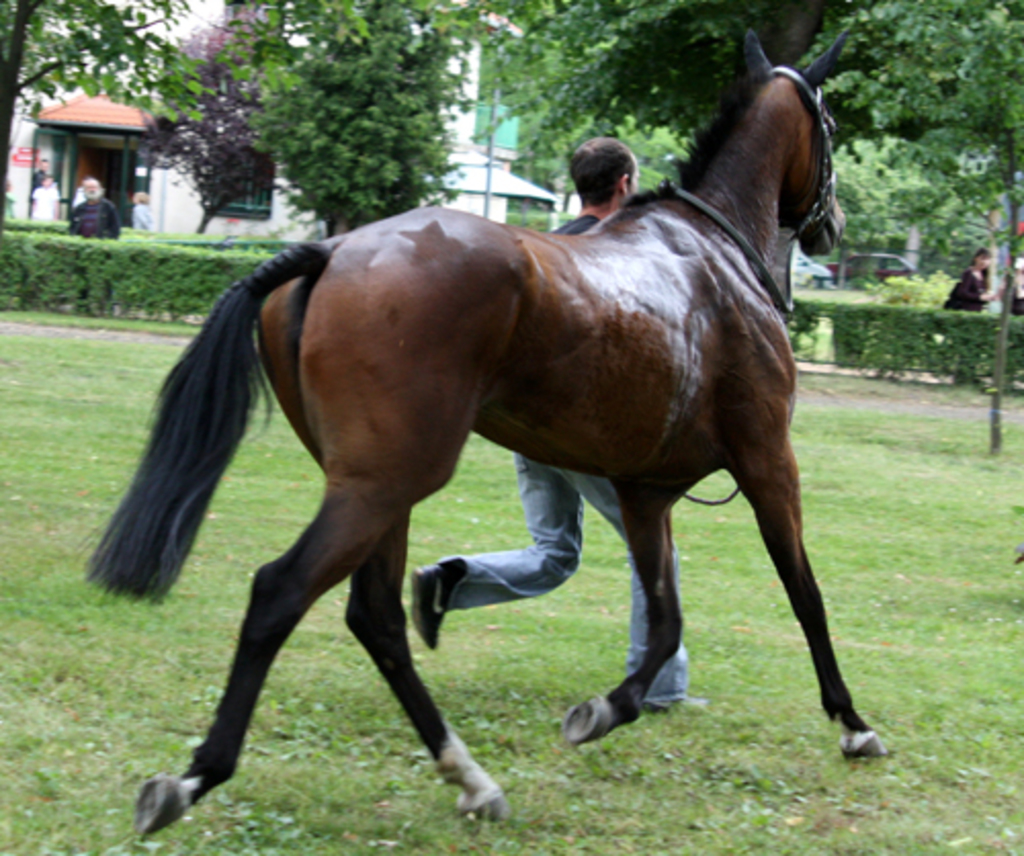horse: (75, 29, 887, 837)
